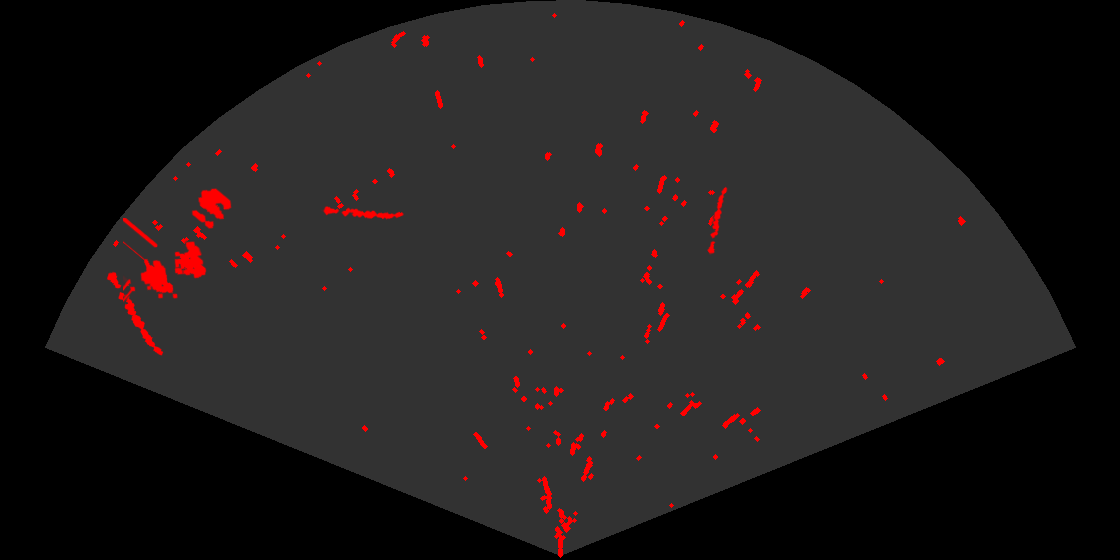ball: (190, 187, 233, 231)
cage: (123, 218, 208, 304)
chain: (105, 270, 165, 357), (706, 185, 729, 255), (321, 205, 405, 221)
